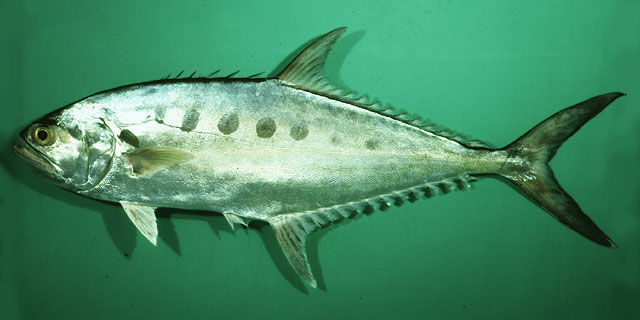fish: (13, 26, 627, 291)
